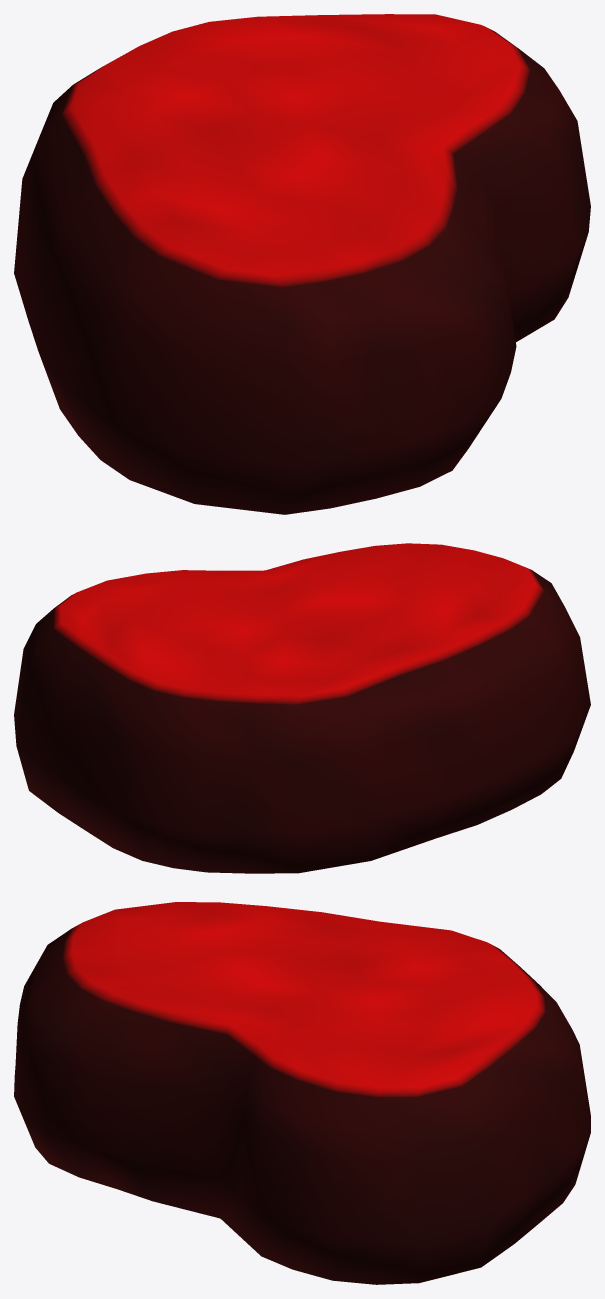
The model's file is geology-landforms-iceplateautiny_v4.fbx.
3 renders of one model, top to bottom at view 1: azimuth 30°, elevation 25°; view 2: azimuth 150°, elevation 25°; view 3: azimuth 270°, elevation 25°, orthographic. The views are drawn at different scales.
Visible parts, largest first — view 1: IcePlateauTiny_v4; view 2: IcePlateauTiny_v4; view 3: IcePlateauTiny_v4.
Boxes of the visible parts, <box> form: IcePlateauTiny_v4: <box>14,14,590,514</box>; IcePlateauTiny_v4: <box>14,543,590,873</box>; IcePlateauTiny_v4: <box>14,902,590,1284</box>.
Size of the model in its own units: 42.8 by 15.04 by 43.94.
